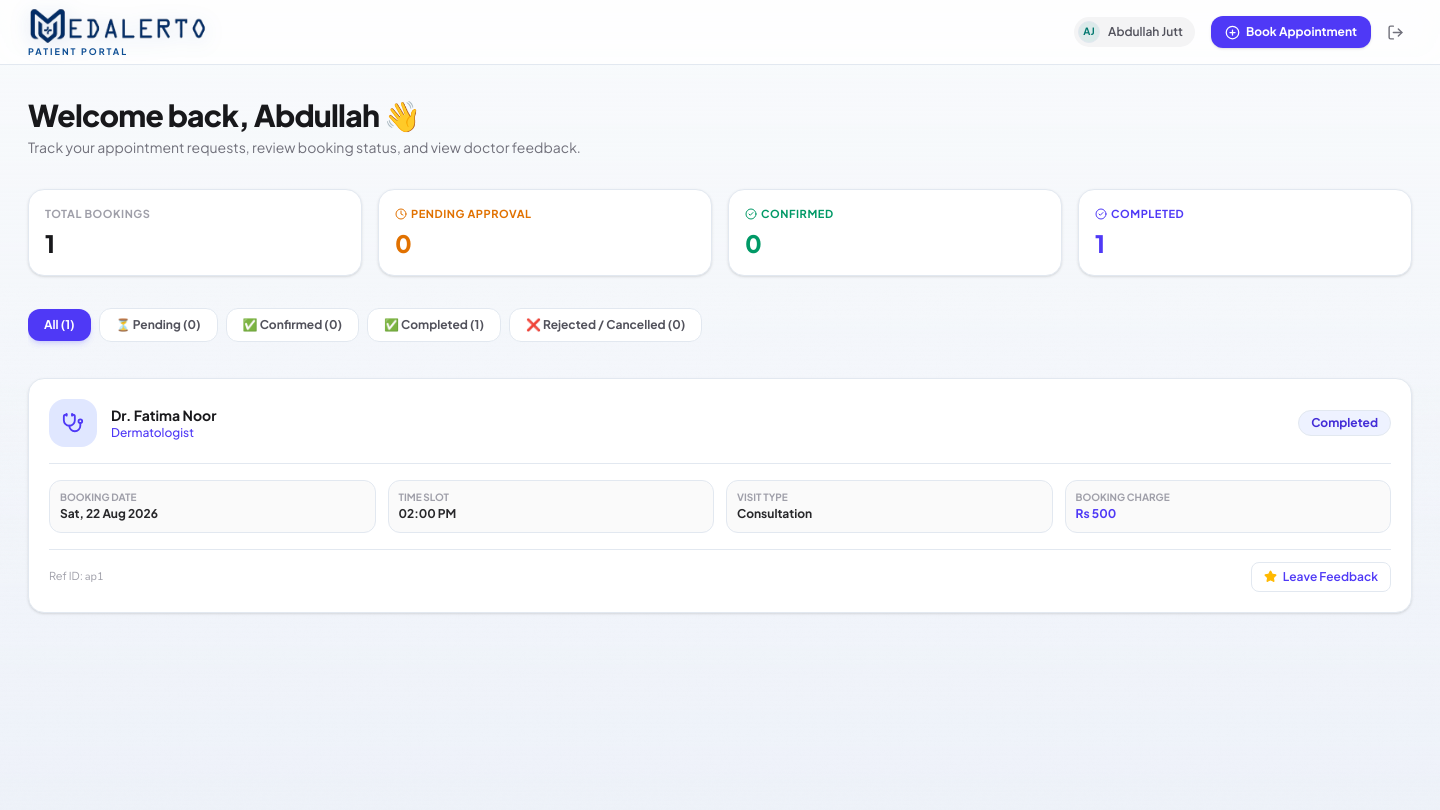
Test case: live patient dashboard — Leave Feedback › opens a pre-filled modal and POSTs to /patient-account/reviews
Step 1. Click the button "Leave Feedback" → click(1321, 577), box x1=1251 y1=562 x2=1391 y2=592
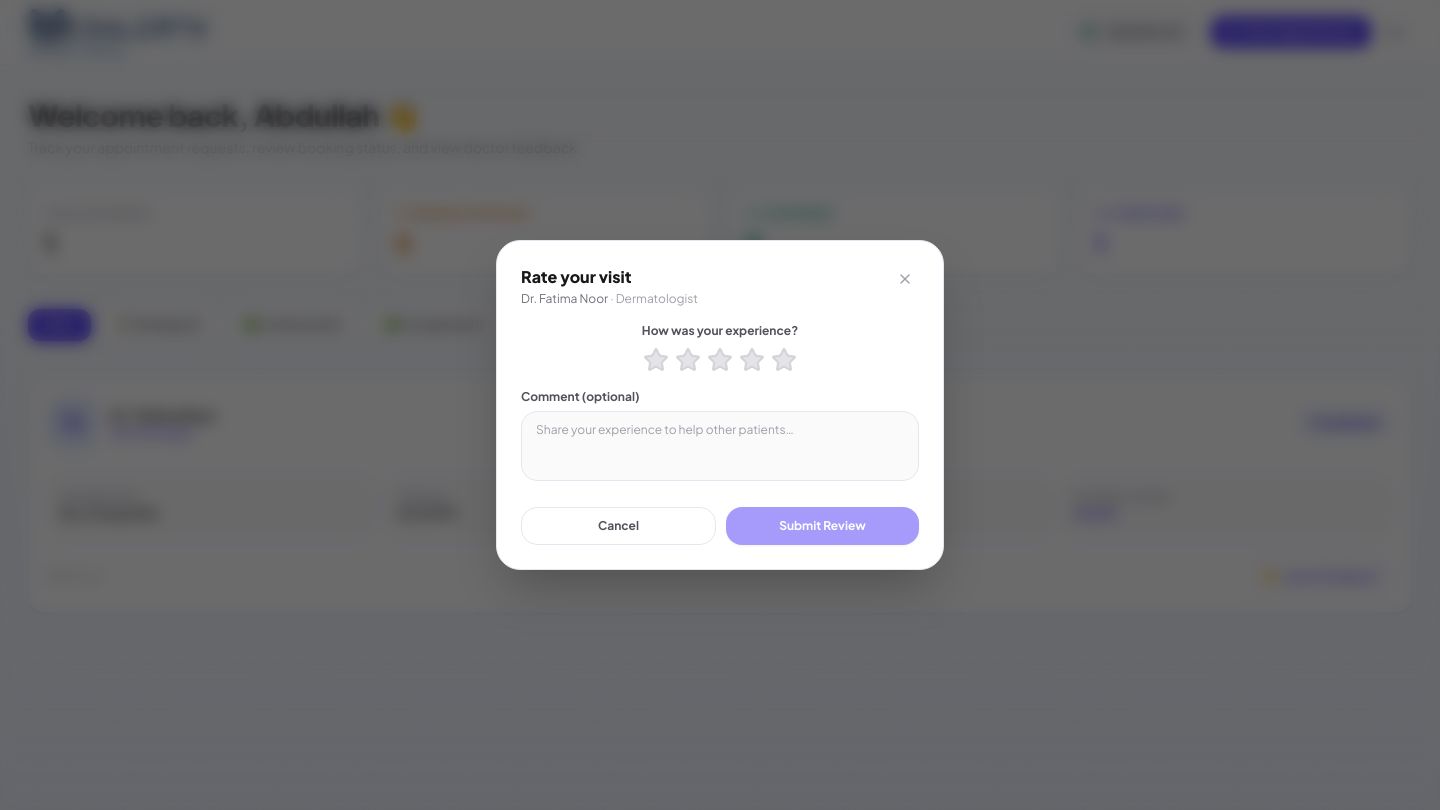
expect the text "Dr. Fatima Noor · Dermatologist" is shown: met, box x1=521 y1=291 x2=698 y2=307
Step 2. Click the button named "5 stars" → click(784, 360), box x1=771 y1=347 x2=797 y2=373
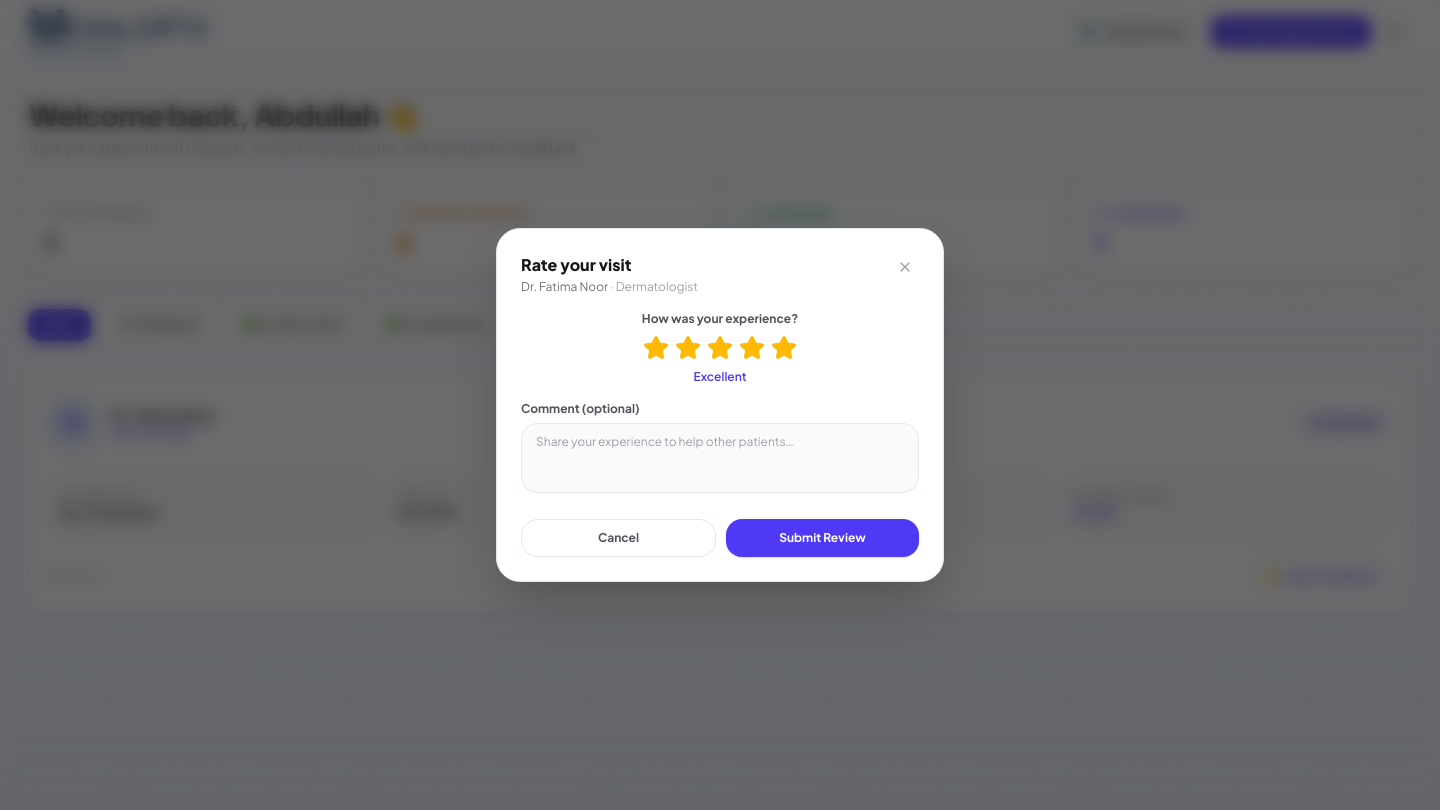
Step 3. Click the button "Submit Review" → click(822, 538), box x1=726 y1=519 x2=919 y2=557
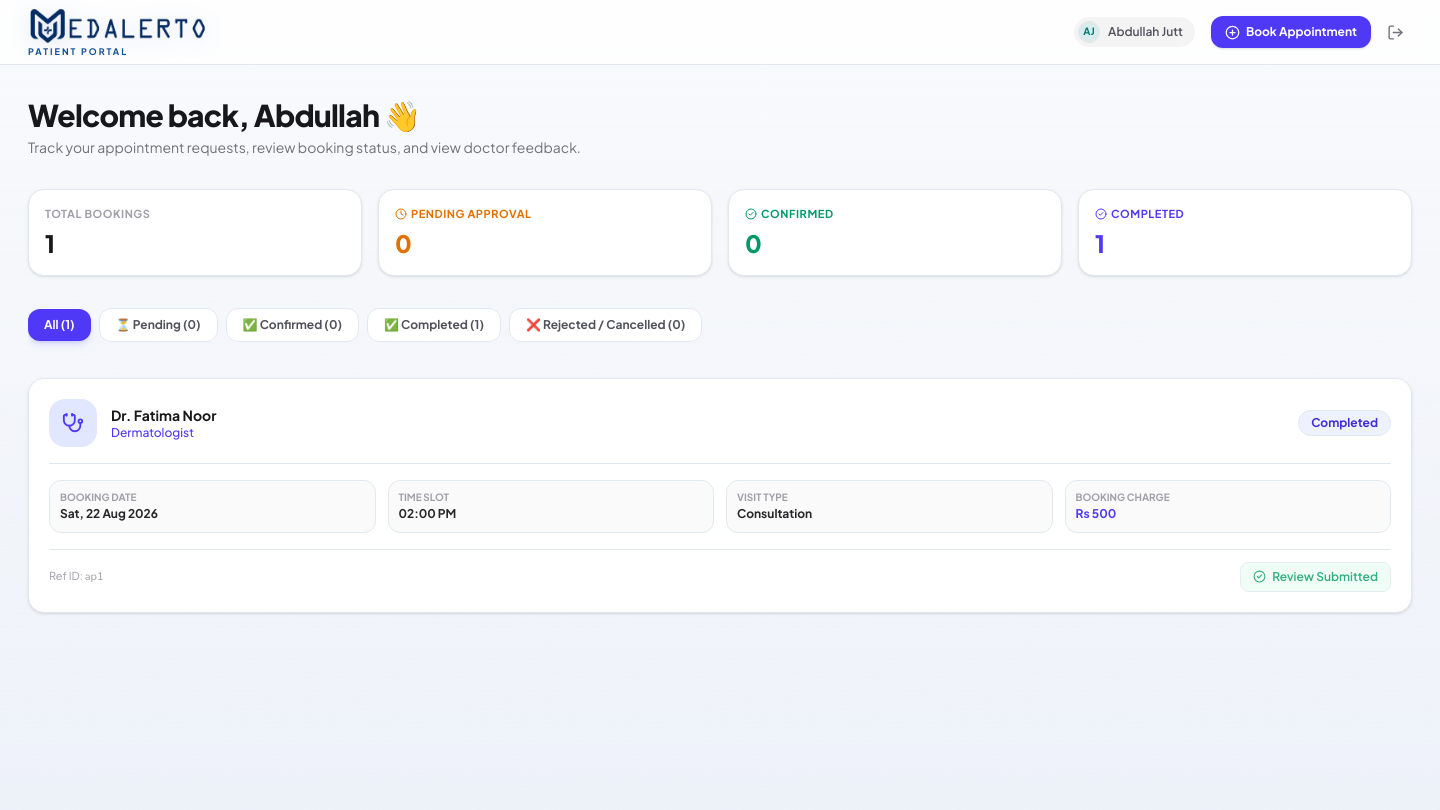
expect the button "Review Submitted" is disabled: met, box x1=1240 y1=562 x2=1391 y2=592
expect the button "Leave Feedback" is gone: met
